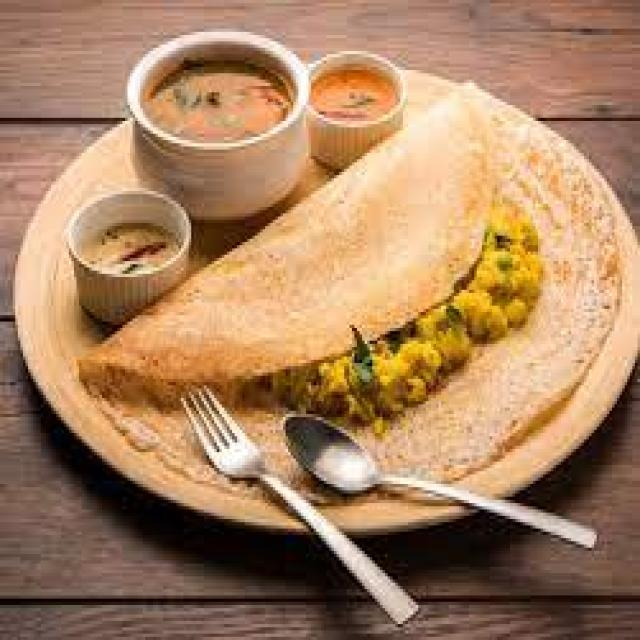Wet Waste: (79, 63, 607, 510)
